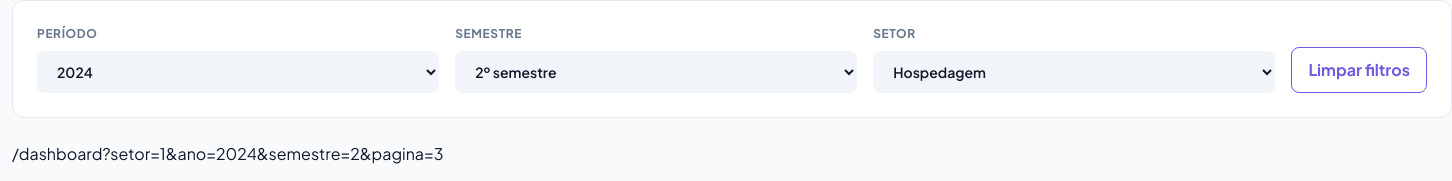
Test: limpa somente os filtros e mantém os demais parâmetros
The image size is (1452, 181).
Click the button "Limpar filtros" at x=1359, y=70, box x1=1291 y1=47 x2=1427 y2=93
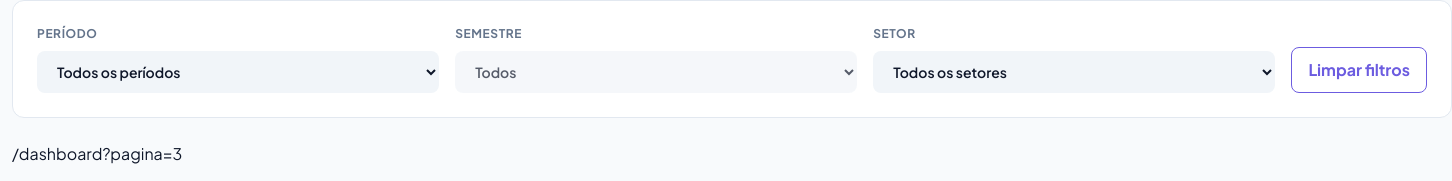
expect the text named "URL" reads "/dashboard?pagina=3": met, box x1=12 y1=143 x2=182 y2=164
expect the dropdown labelled "Período" shows "Todos os períodos": met, box x1=37 y1=51 x2=439 y2=93
expect the dropdown labelled "Semestre" shows "Todos": met, box x1=455 y1=51 x2=857 y2=93
